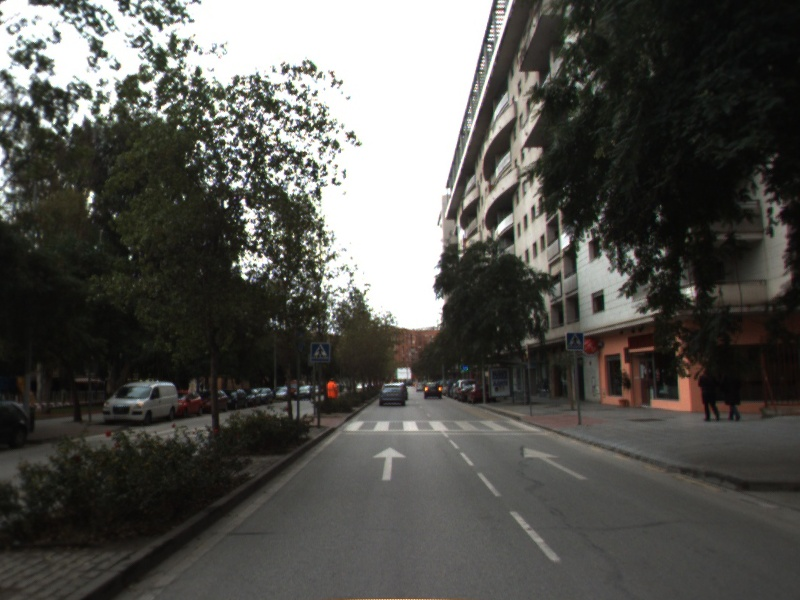STRAIGHT: (521, 445, 591, 482), (371, 445, 409, 482)
